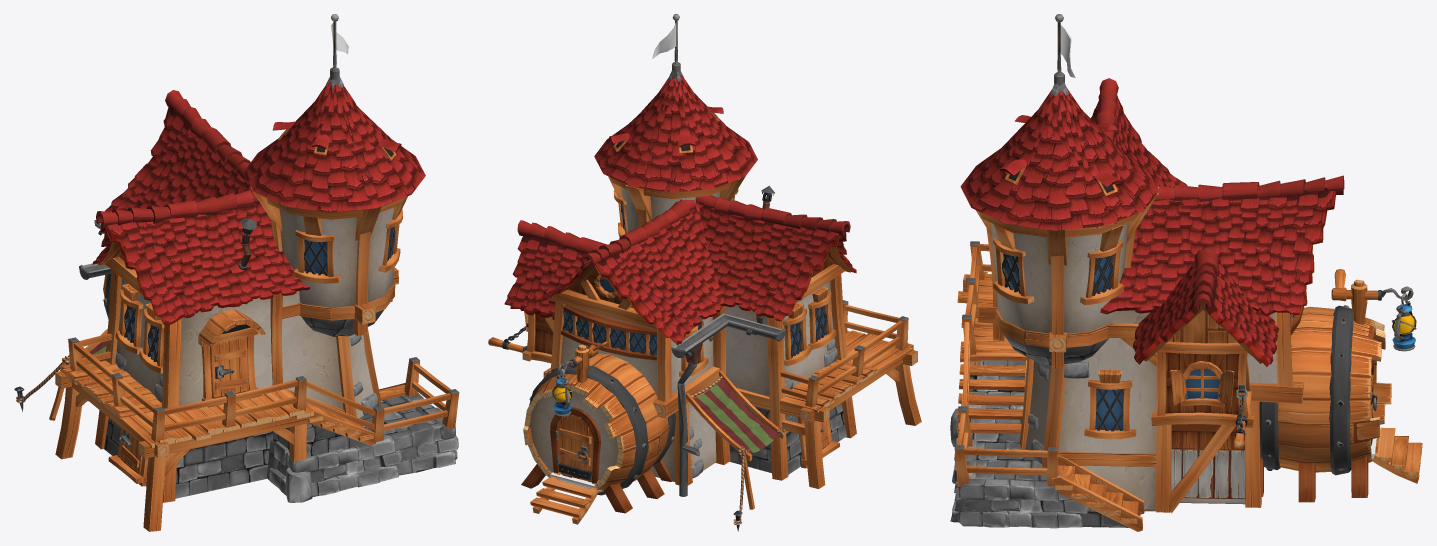
Rendered from Grad nevidljivih ljudi samo kuca bure 30 maj.fbx.
3 renders of one model, left to right at view 1: azimuth 30°, elevation 25°; view 2: azimuth 150°, elevation 25°; view 3: azimuth 270°, elevation 25°, orthographic. The views are drawn at different scales.
Visible parts, largest first — view 1: Kuca_bure; view 2: Kuca_bure; view 3: Kuca_bure.
Boxes of the visible parts, x1,y1,x2,y2 form: Kuca_bure: (14,14,459,531); Kuca_bure: (488,14,921,531); Kuca_bure: (950,14,1422,531).
Bounding box in the file's own units: 4.09 × 4.86 × 4.34.
6 materials, 5 textured.
